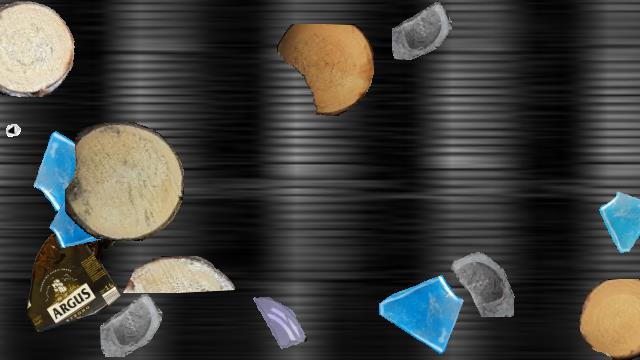glass: (31, 124, 123, 216), (375, 269, 465, 359), (441, 240, 517, 316), (49, 190, 113, 254), (100, 294, 162, 356), (392, 1, 452, 61), (250, 295, 308, 353), (596, 190, 640, 254), (0, 293, 9, 359)
metal: (3, 107, 41, 145)
plastic: (27, 224, 121, 332)
wood: (65, 122, 183, 240), (277, 24, 373, 116), (0, 1, 75, 97), (579, 279, 640, 359), (121, 256, 235, 292)
